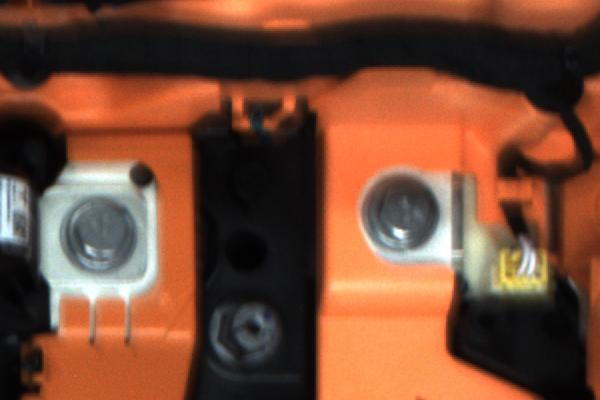nut_b: (350, 166, 443, 254), (56, 197, 151, 277)
